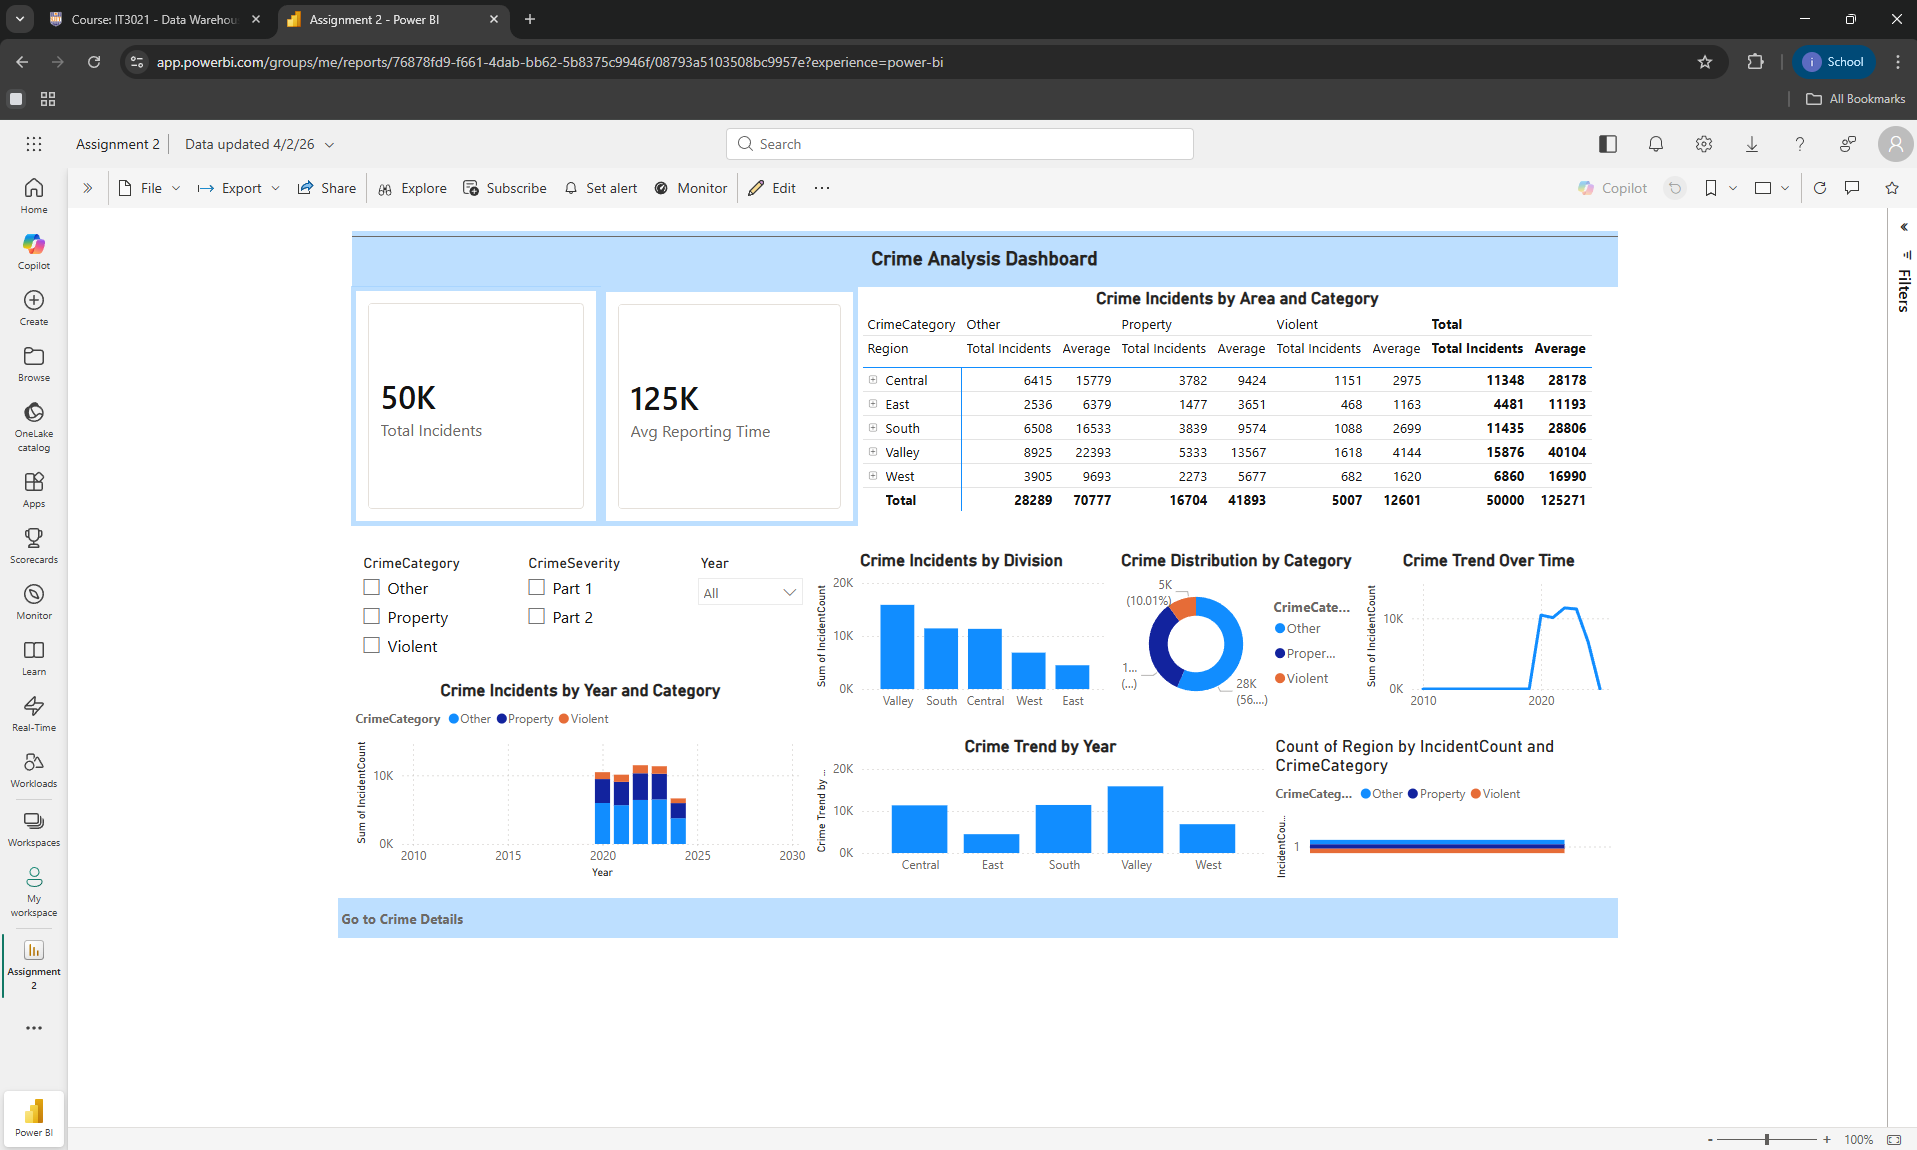

Layout of this report page (visuals, bound fields, positions):
{"tool":"powerbi","page":{"name":"Summary Page","canvas":[1280,720],"ordinal":0},"visuals":[{"type":"pivotTable","title":"Crime Incidents by Area and Category","fields":{"Rows":["DIM_AREA.Region","DIM_AREA.AreaName"],"Columns":["DIM_CRIME.CrimeCategory"],"Values":["Sum(FACT_CRIME_INCIDENT.IncidentCount)","Sum(FACT_CRIME_INCIDENT.DaysToReport)"]},"box":[520,70,760,240],"z":0},{"type":"cardVisual","fields":{"Data":["Sum(FACT_CRIME_INCIDENT.IncidentCount)"]},"box":[13.3,68.3,250,240],"z":1000},{"type":"textbox","box":[13.8,12.5,1266.2,56.2],"z":2000},{"type":"slicer","title":"Crime Category","fields":{"Values":["DIM_CRIME.CrimeCategory"]},"box":[13.3,331.7,165,130],"z":3000},{"type":"slicer","fields":{"Values":["DIM_CRIME.CrimeSeverity"]},"box":[178.3,331.7,171.7,130],"z":4000},{"type":"slicer","fields":{"Values":["DIM_DATE.Year"]},"box":[350,331.7,125,130],"z":5000},{"type":"clusteredColumnChart","title":"Crime Incidents by Division","fields":{"Y":["Sum(FACT_CRIME_INCIDENT.IncidentCount)"],"Category":["DIM_AREA.Region"]},"box":[473.3,332.3,301.7,168.3],"z":6000},{"type":"donutChart","title":"Crime Distribution by Category","fields":{"Category":["DIM_CRIME.CrimeCategory"],"Y":["Sum(FACT_CRIME_INCIDENT.IncidentCount)"]},"box":[775,332.3,248.3,168.3],"z":7000},{"type":"lineChart","title":"Crime Trend Over Time","fields":{"Category":["DIM_DATE.Year"],"Y":["Sum(FACT_CRIME_INCIDENT.IncidentCount)"]},"box":[1023.3,332.3,256.7,168.3],"z":8000},{"type":"columnChart","title":"Crime Incidents by Year and Category","fields":{"Category":["DIM_DATE.Calendar Hierarchy.Year","DIM_DATE.Calendar Hierarchy.QuarterName","DIM_DATE.Calendar Hierarchy.MonthName"],"Y":["Sum(FACT_CRIME_INCIDENT.IncidentCount)"],"Series":["DIM_CRIME.CrimeCategory"]},"box":[13.3,461.7,460,203.3],"z":9000},{"type":"columnChart","title":"Crime Trend by Year","fields":{"Category":["DIM_AREA.Location Hierarchy.Region","DIM_AREA.Location Hierarchy.Division","DIM_AREA.Location Hierarchy.AreaName"],"Y":["Sum(FACT_CRIME_INCIDENT.IncidentCount)"]},"box":[473.3,518.3,460,146.7],"z":10000},{"type":"clusteredBarChart","fields":{"Y":["CountNonNull(DIM_AREA.Region)"],"Category":["FACT_CRIME_INCIDENT.IncidentCount"],"Series":["DIM_CRIME.CrimeCategory"]},"box":[933.3,518.3,346.7,146.7],"z":11000},{"type":"cardVisual","fields":{"Data":["Sum(FACT_CRIME_INCIDENT.DaysToReport)"]},"box":[263,69,257,239],"z":12000},{"type":"actionButton","box":[0,680,1280,40],"z":12001}]}

Visuals, with their boxes on the page's 1280x720 design canvas (x1, y1, x2, y2). These are canvas units, not pixel positions in the 1917x1150 screenshot, which may show the page scaled, cropped or inside an application window:
"Crime Incidents by Area and Category" pivotTable: (left=520, top=70, right=1280, bottom=310)
cardVisual - Sum(FACT_CRIME_INCIDENT.IncidentCount): (left=13, top=68, right=263, bottom=308)
textbox: (left=14, top=12, right=1280, bottom=69)
"Crime Category" slicer: (left=13, top=332, right=178, bottom=462)
slicer - DIM_CRIME.CrimeSeverity: (left=178, top=332, right=350, bottom=462)
slicer - DIM_DATE.Year: (left=350, top=332, right=475, bottom=462)
"Crime Incidents by Division" clusteredColumnChart: (left=473, top=332, right=775, bottom=501)
"Crime Distribution by Category" donutChart: (left=775, top=332, right=1023, bottom=501)
"Crime Trend Over Time" lineChart: (left=1023, top=332, right=1280, bottom=501)
"Crime Incidents by Year and Category" columnChart: (left=13, top=462, right=473, bottom=665)
"Crime Trend by Year" columnChart: (left=473, top=518, right=933, bottom=665)
clusteredBarChart - CountNonNull(DIM_AREA.Region) x FACT_CRIME_INCIDENT.IncidentCount: (left=933, top=518, right=1280, bottom=665)
cardVisual - Sum(FACT_CRIME_INCIDENT.DaysToReport): (left=263, top=69, right=520, bottom=308)
actionButton: (left=0, top=680, right=1280, bottom=720)
